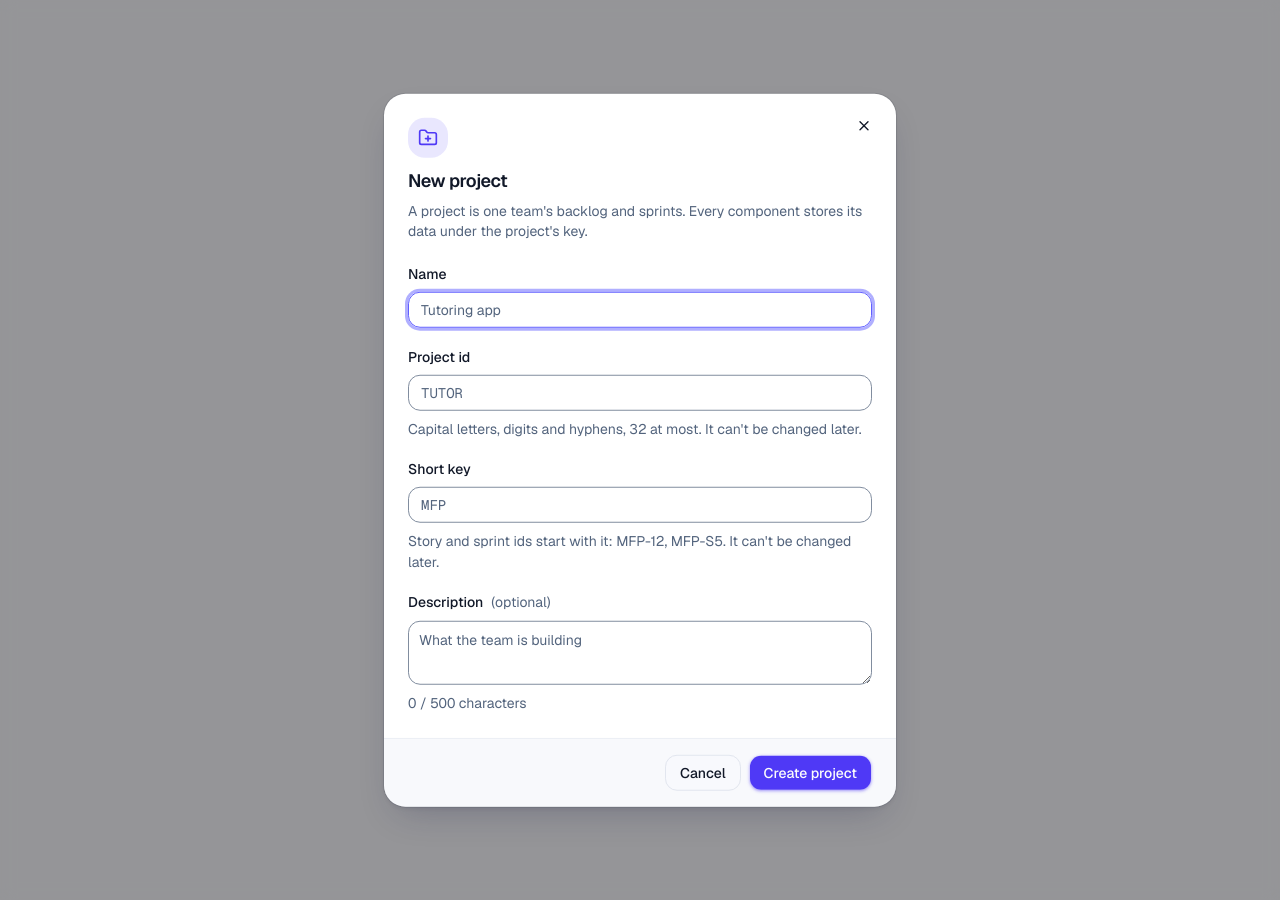
NewProjectDialog › shows what is wrong on the field and sends nothing
In the field labelled "Project id": (640, 393) [408, 375, 872, 411], type "tutor"
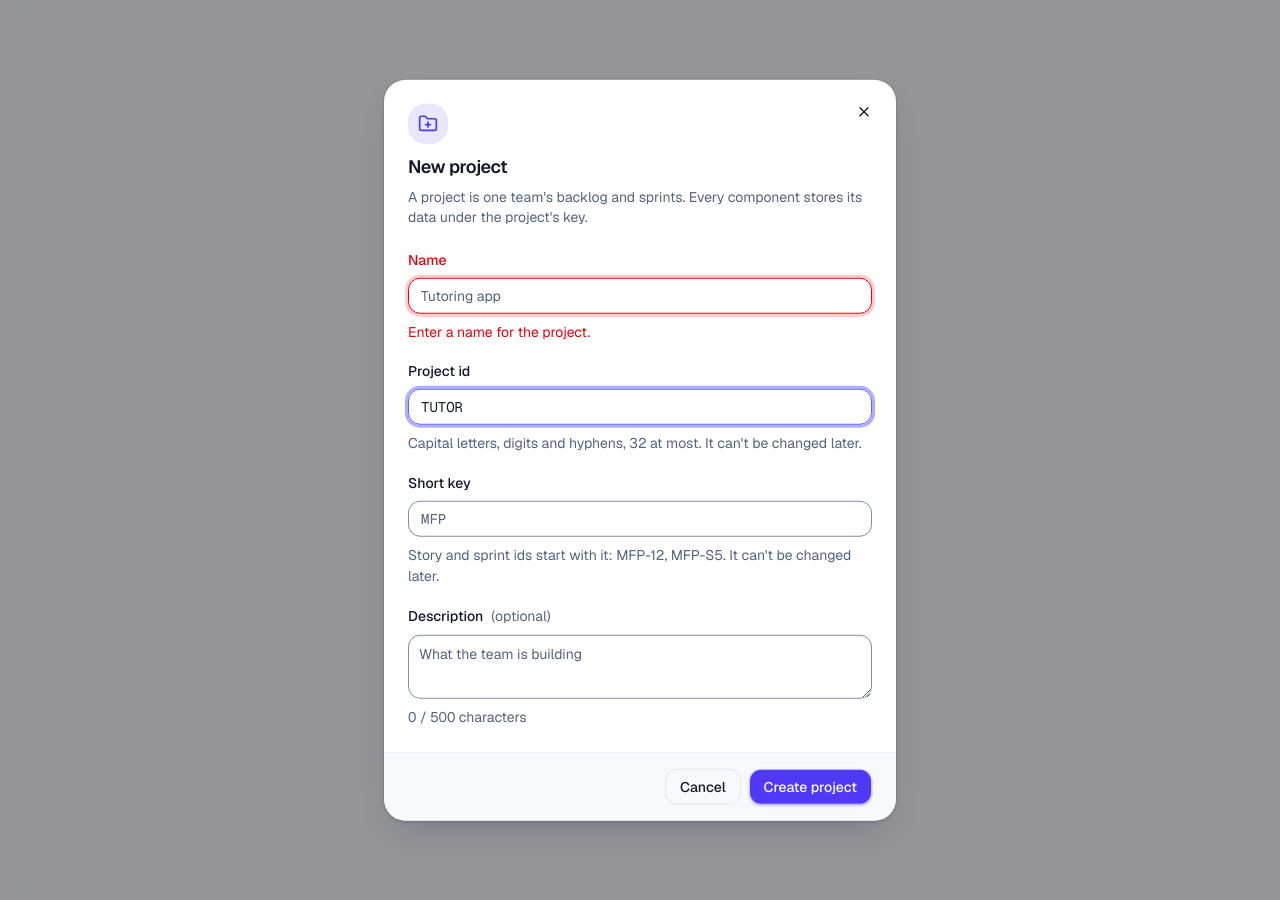
Click the button "Create project": (810, 786) [749, 768, 872, 804]
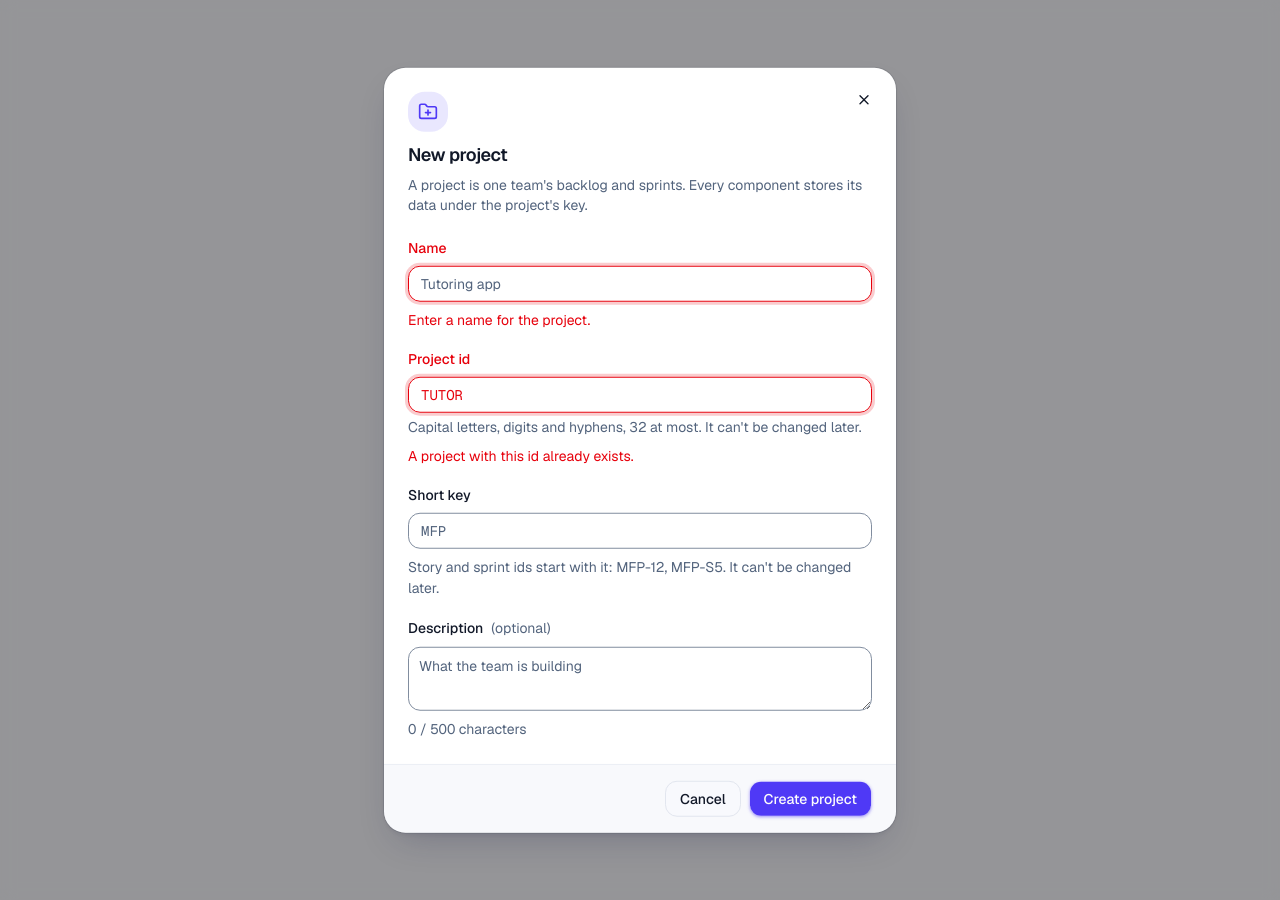
Expected: the text "Enter a name for the project." is shown, [408, 310, 590, 328]
Expected: the text "A project with this id already exists." is shown, [408, 447, 634, 465]
